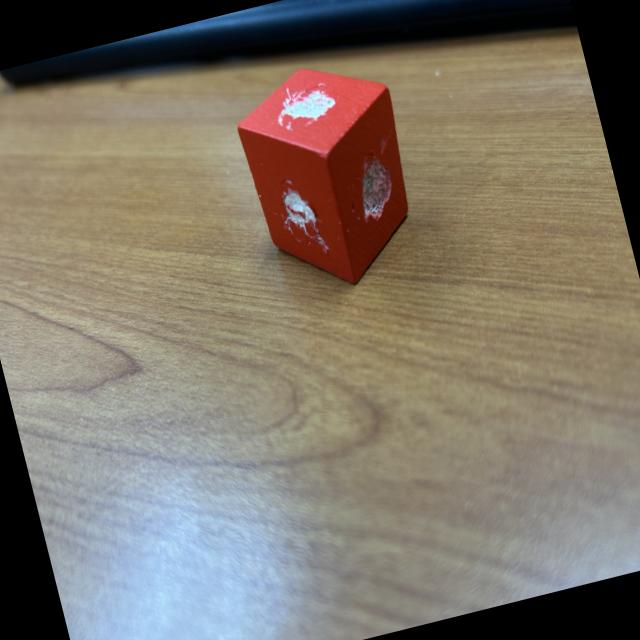broken: (226, 46, 434, 304)
